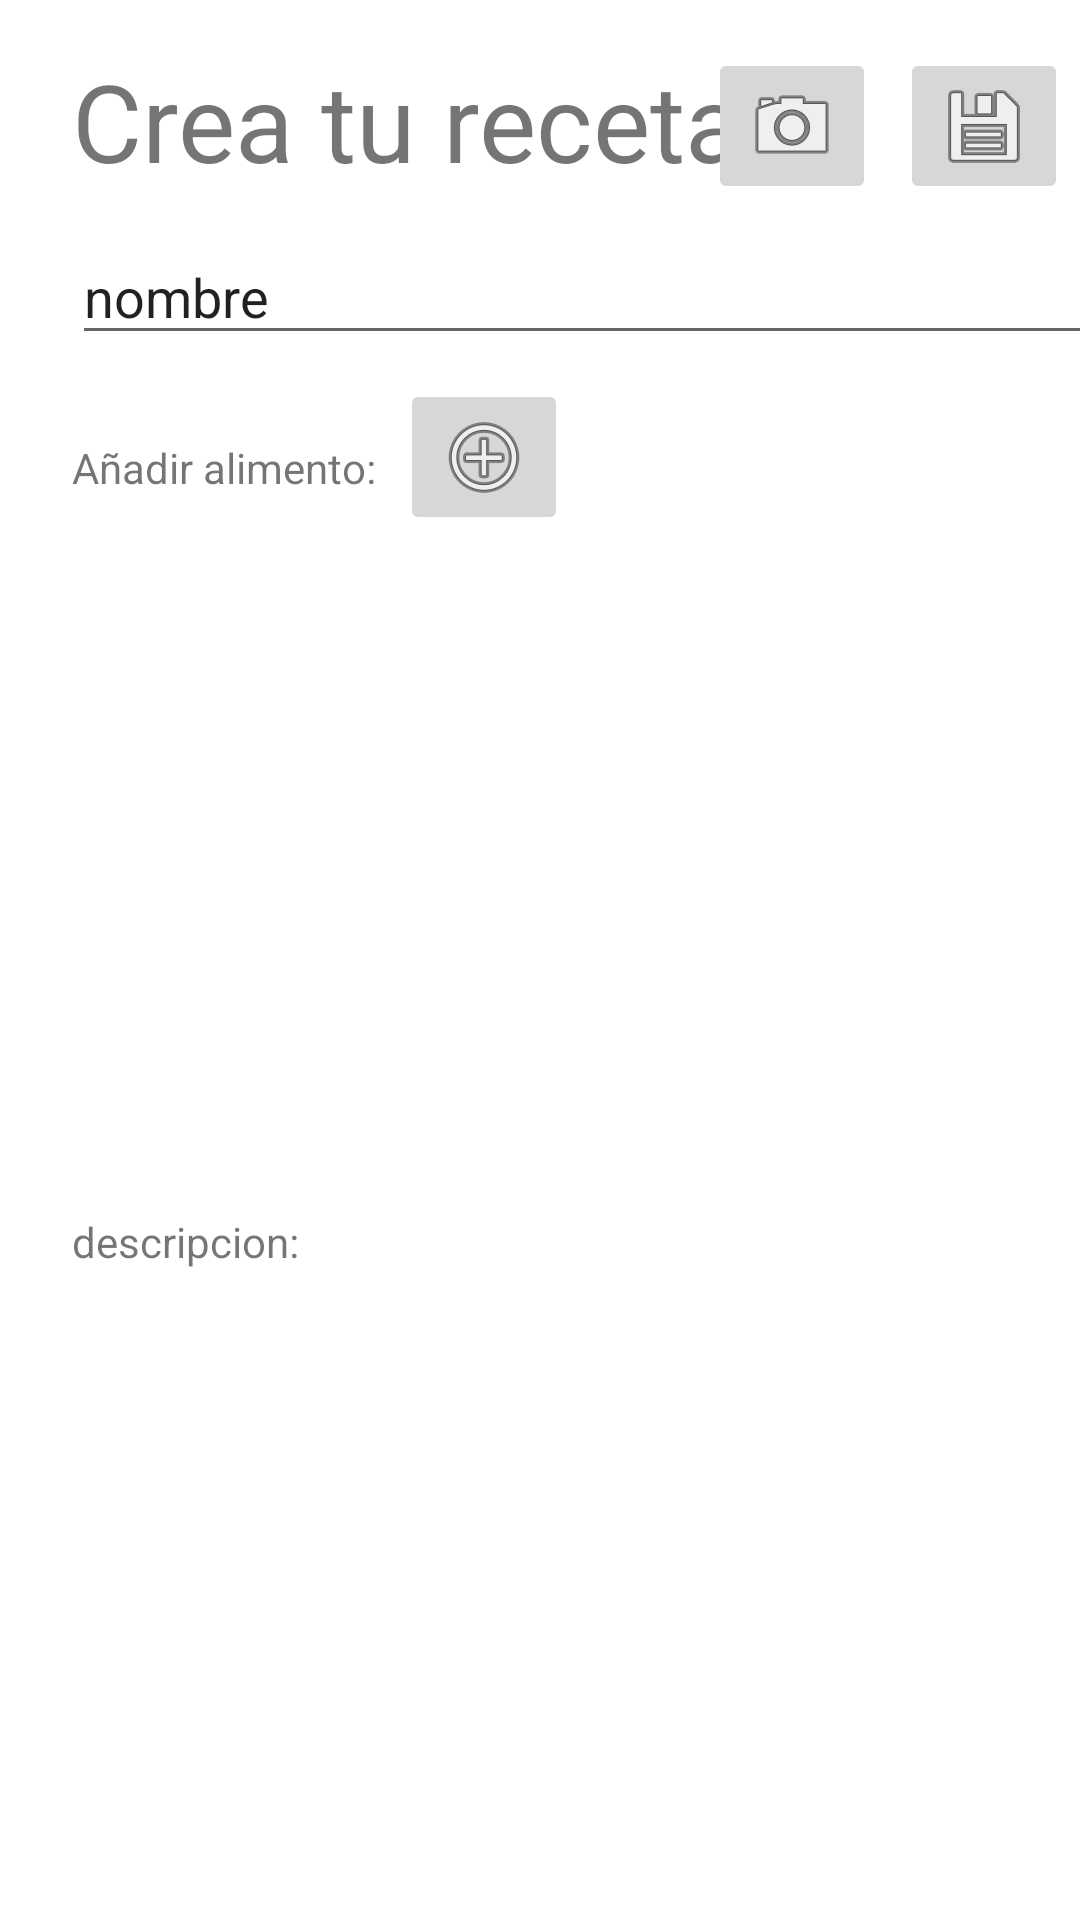

Locate icon controls on the screen. Image size 1080px x 1920px, boxes as (x1, y1, x2, y2).
add: (412, 397, 556, 517)
camera: (708, 66, 864, 186)
save: (912, 66, 1056, 186)
